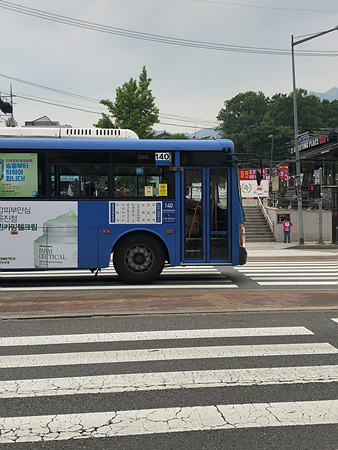entrance: (177, 153, 235, 269)
